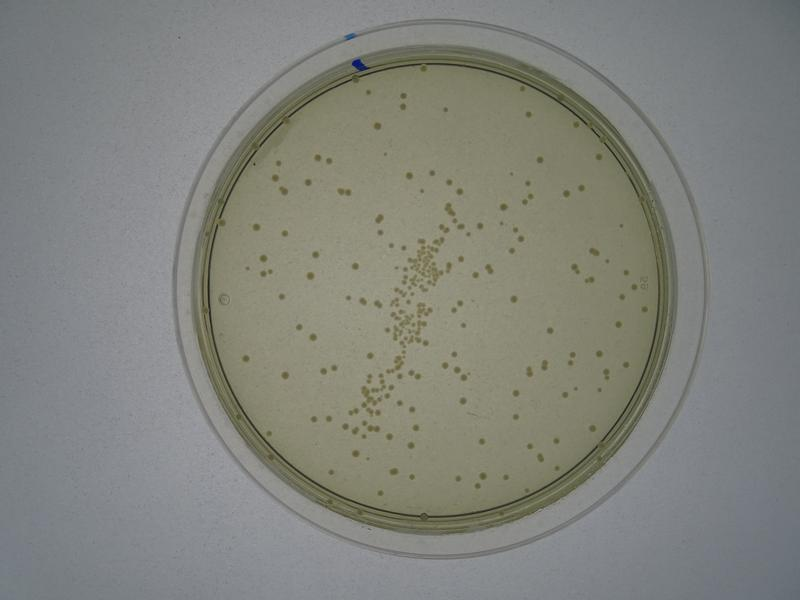colony: (301, 176, 314, 190), (389, 464, 401, 479), (249, 221, 262, 234), (440, 103, 453, 115), (504, 246, 518, 257), (584, 422, 598, 433), (459, 393, 469, 408), (535, 155, 547, 167), (280, 369, 291, 382), (309, 249, 322, 260), (522, 109, 536, 119), (509, 387, 523, 397), (308, 332, 319, 343), (477, 436, 488, 447), (351, 448, 362, 459), (451, 472, 462, 483), (404, 169, 414, 181), (305, 272, 317, 282), (291, 322, 303, 332), (499, 200, 509, 212), (406, 439, 416, 451), (364, 348, 374, 360), (512, 410, 521, 423), (279, 229, 290, 239), (372, 121, 382, 132), (349, 261, 361, 270), (239, 353, 249, 363), (510, 295, 520, 305), (277, 291, 287, 301), (577, 182, 586, 193), (470, 270, 480, 279), (547, 324, 555, 335), (525, 443, 533, 451)
